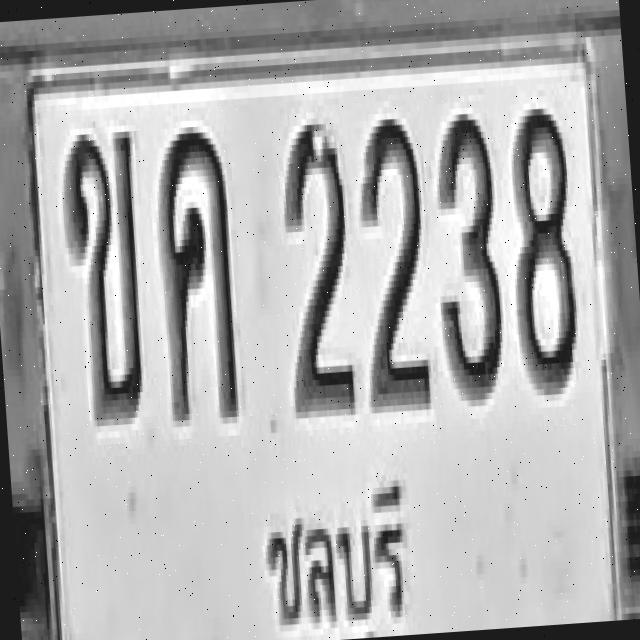11KhorKhai: (60, 125, 150, 421)
13KhorKhwai: (152, 124, 242, 420)
2: (350, 111, 434, 413), (276, 119, 358, 415)
3: (427, 106, 507, 401)
8: (504, 98, 580, 393)
Chonburi: (246, 461, 421, 640)
